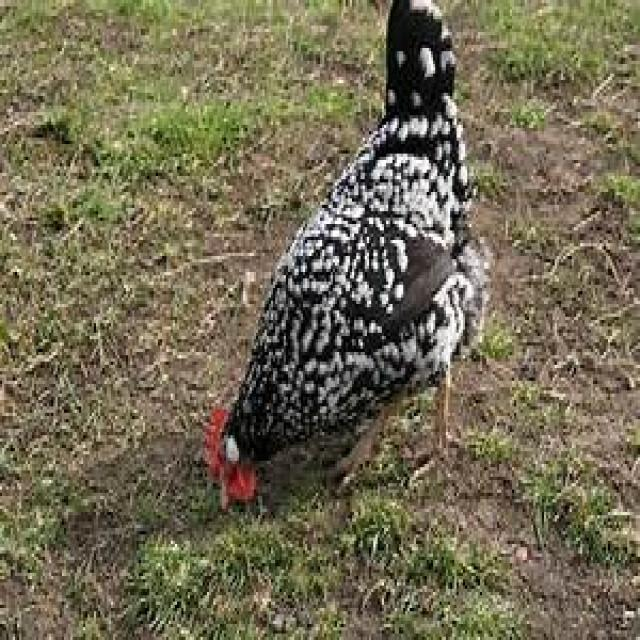hen: (211, 0, 491, 509)
